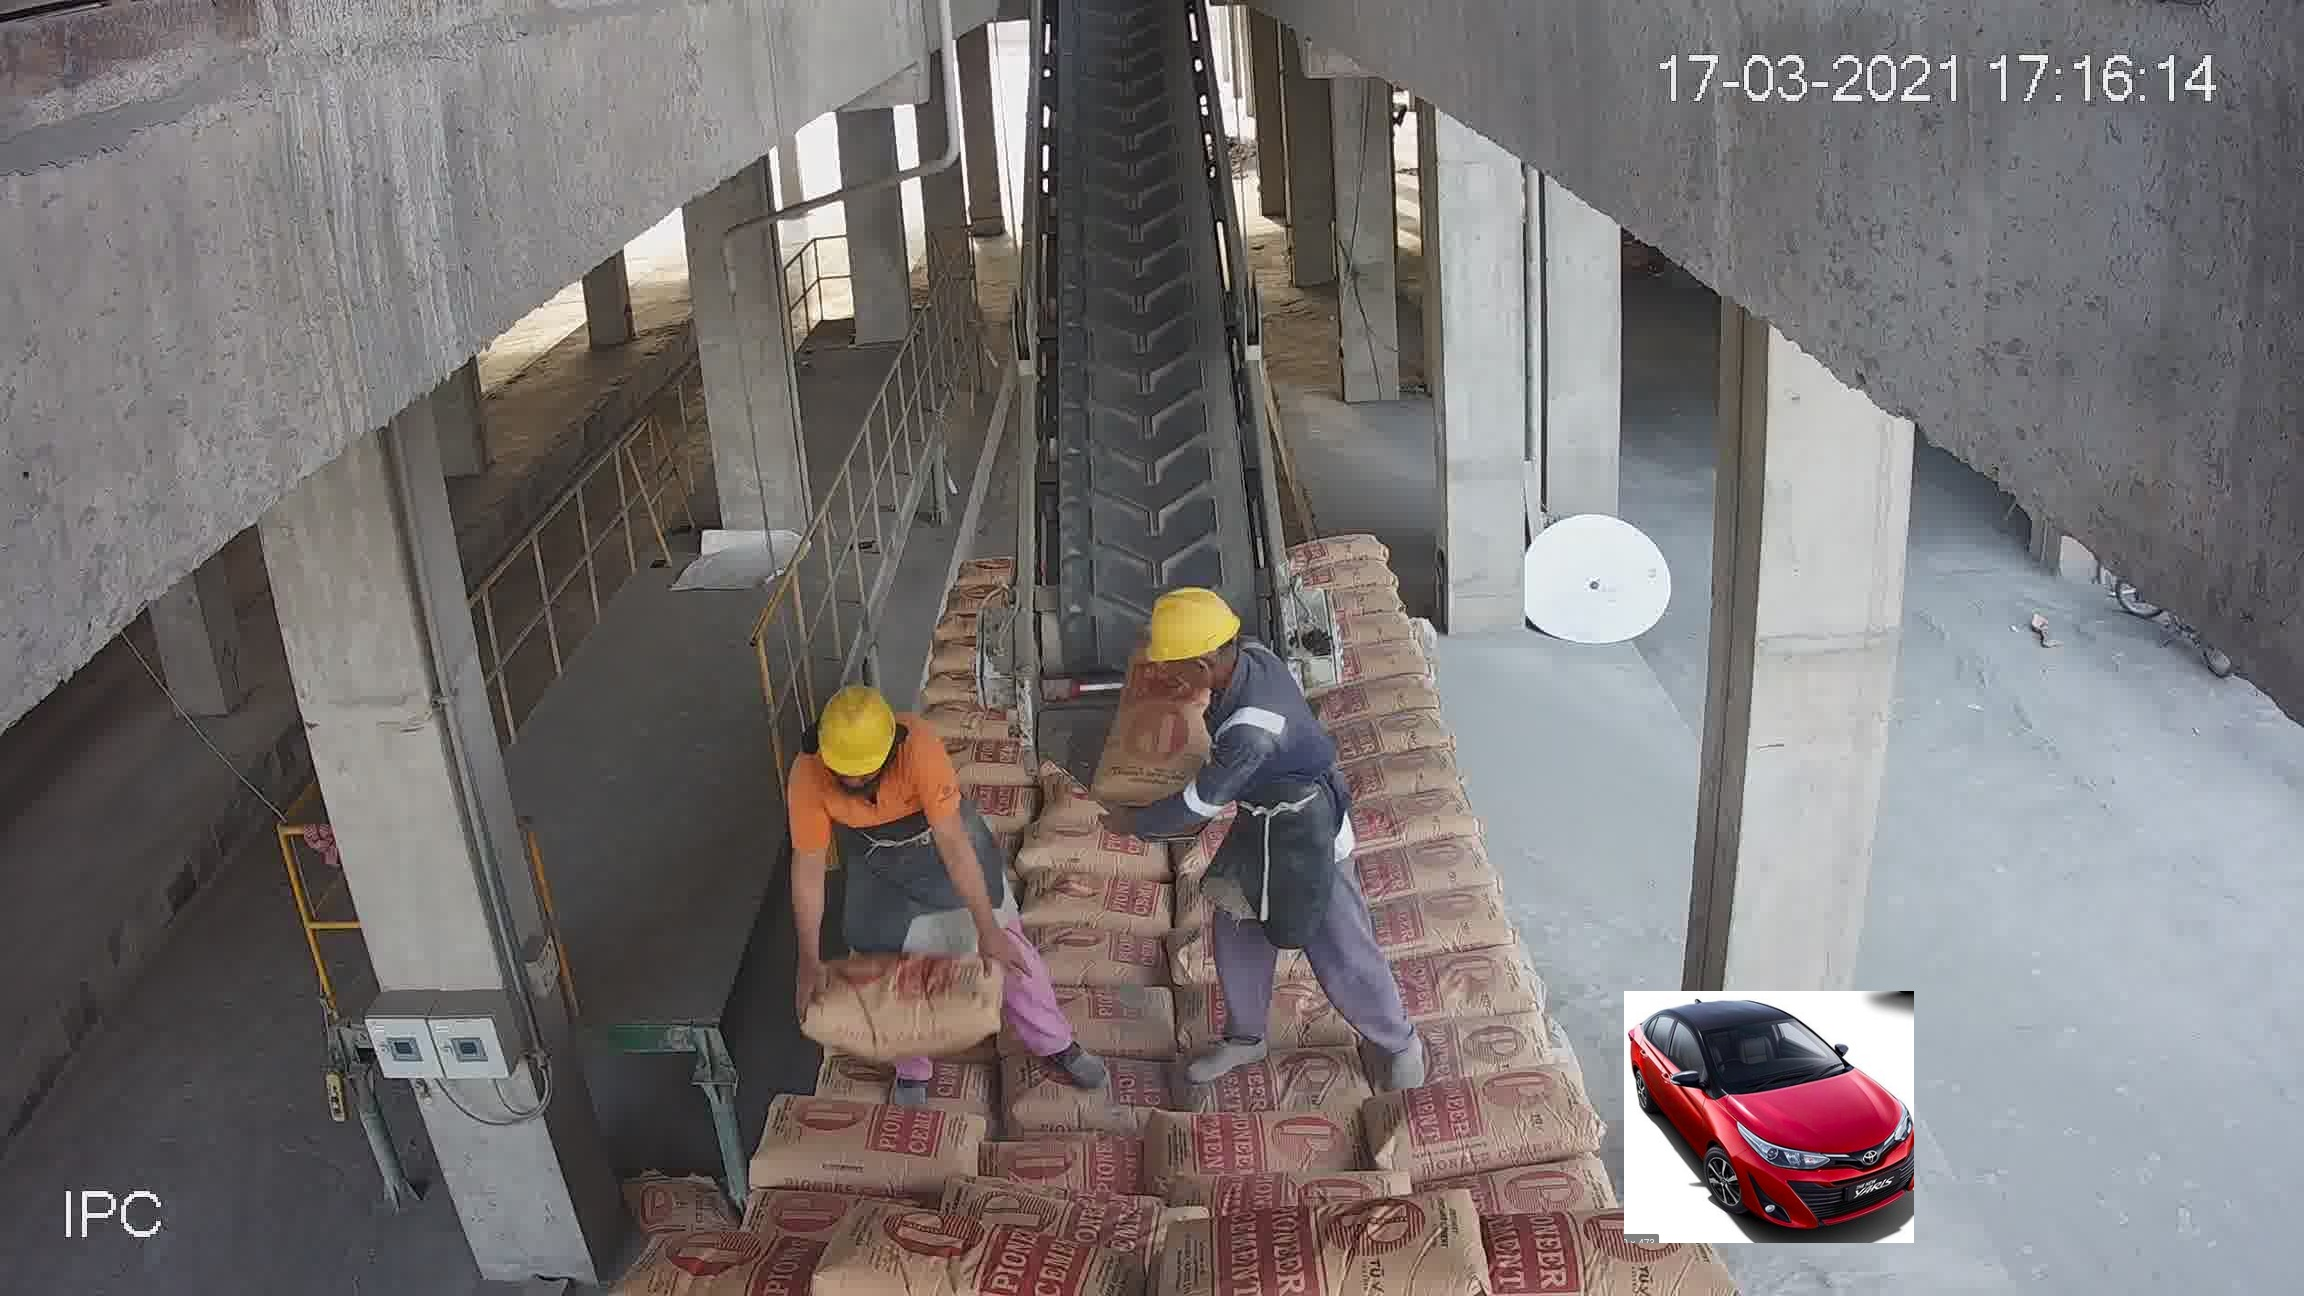bag_h: (1359, 1067, 1603, 1188), (805, 932, 1006, 1055), (801, 1218, 1125, 1294), (745, 1101, 991, 1198), (1154, 1103, 1378, 1198), (994, 1044, 1171, 1143), (1188, 1035, 1374, 1117), (635, 1225, 853, 1294), (1419, 986, 1554, 1082), (1361, 820, 1506, 907), (1358, 878, 1519, 956), (994, 1133, 1166, 1201), (1407, 934, 1537, 1022), (1054, 972, 1184, 1052), (1008, 815, 1165, 878), (1021, 867, 1174, 930), (1027, 930, 1176, 995), (1347, 785, 1475, 855), (1309, 657, 1438, 718), (1331, 706, 1453, 769), (1342, 750, 1464, 802), (1280, 527, 1397, 570), (1298, 559, 1400, 597)
bag_v: (1097, 663, 1198, 798)
belt: (1013, 0, 1291, 780)
